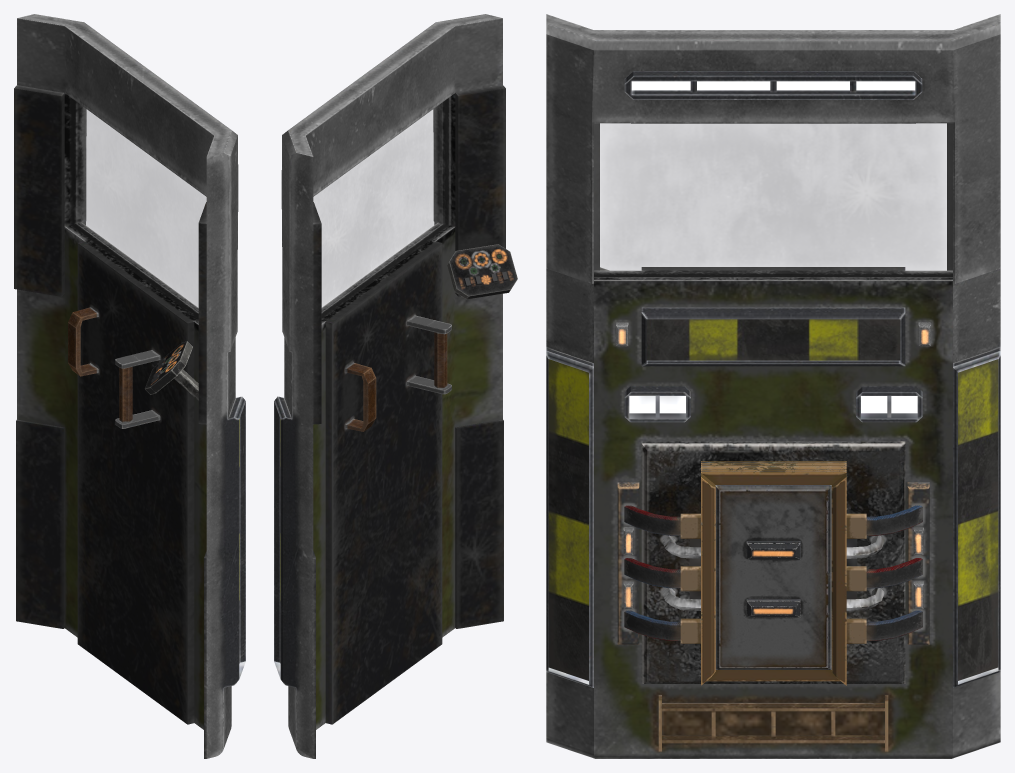
The model's file is sci-fi_energy_riot_shield.glb.
3 views of the same model, side by side, from view 1: azimuth 30°, elevation 25°; view 2: azimuth 150°, elevation 25°; view 3: azimuth 270°, elevation 25° (orthographic). The views are drawn at different scales.
Visible parts, largest first — view 1: group24_pasted__pCube52; view 2: group24_pasted__pCube52; view 3: group24_pasted__pCube52.
Boxes of the visible parts, x1,y1,x2,y2 form: group24_pasted__pCube52: (14,14,245,758); group24_pasted__pCube52: (274,14,517,758); group24_pasted__pCube52: (546,14,1000,758).
Bounding box in the file's own units: 1.03 × 5 × 2.85.
Materials: 1 (1 with a texture image).
